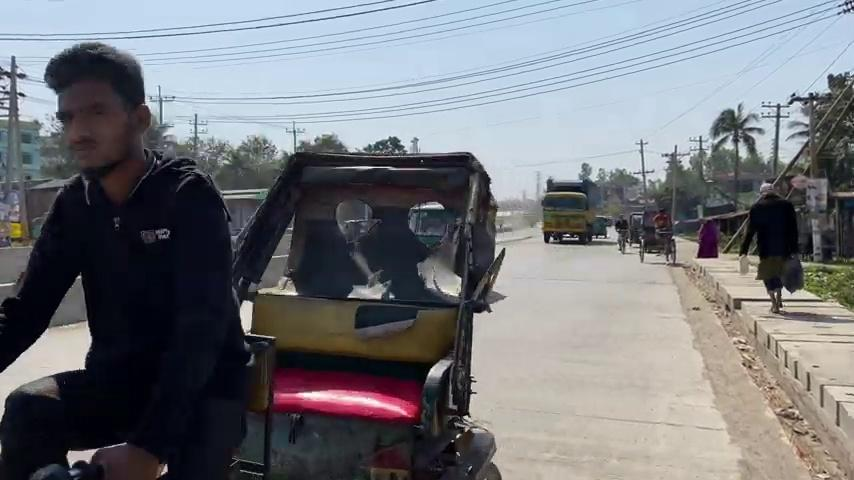Fence: (0, 41, 251, 479), (738, 182, 799, 313), (696, 216, 721, 258), (614, 213, 629, 251)
Muddy road: (228, 149, 506, 478)
Railroad-crossing: (708, 101, 764, 209)
Rickshaw: (541, 177, 600, 243)
